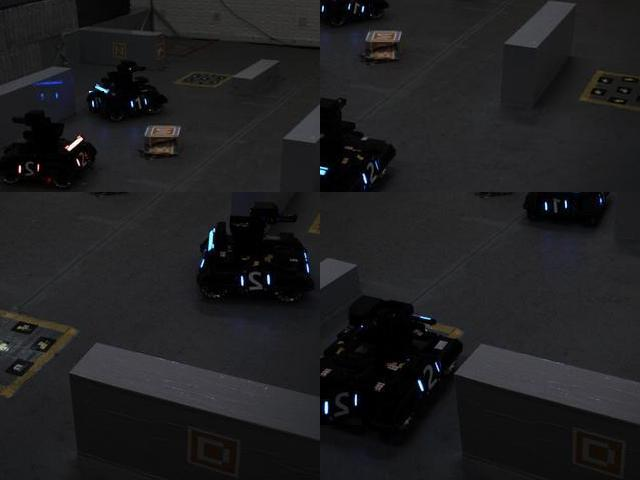armor: (320, 383, 364, 427), (411, 358, 445, 399), (350, 156, 384, 189), (238, 265, 273, 296), (542, 196, 574, 218), (15, 157, 44, 180), (125, 91, 151, 112), (71, 145, 92, 171), (346, 0, 370, 19), (90, 91, 106, 112), (320, 0, 328, 18)
